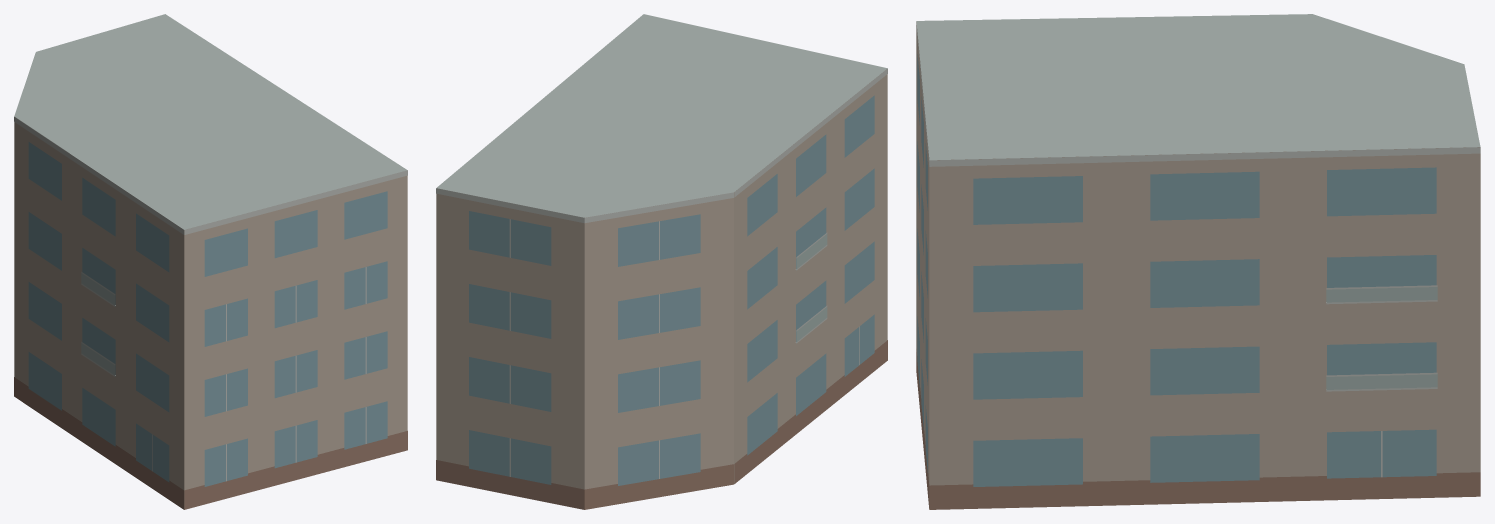
The model's file is survey-upis-32723122.glb.
3 views of the same model, side by side, from view 1: azimuth 30°, elevation 25°; view 2: azimuth 150°, elevation 25°; view 3: azimuth 270°, elevation 25° (orthographic). The views are drawn at different scales.
Parts seen in each view (by area): view 1: survey-upis-32723122.tmp; view 2: survey-upis-32723122.tmp; view 3: survey-upis-32723122.tmp.
Boxes of the visible parts, x1,y1,x2,y2 form: survey-upis-32723122.tmp: (14,14,407,509); survey-upis-32723122.tmp: (436,14,887,509); survey-upis-32723122.tmp: (916,14,1480,509).
Bounding box in the file's own units: 11.68 × 13 × 19.02.
